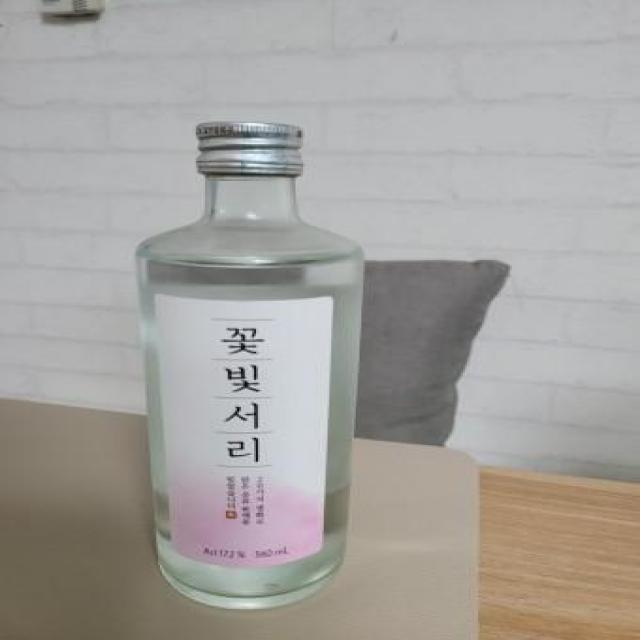soju-bottle: (136, 120, 366, 610)
